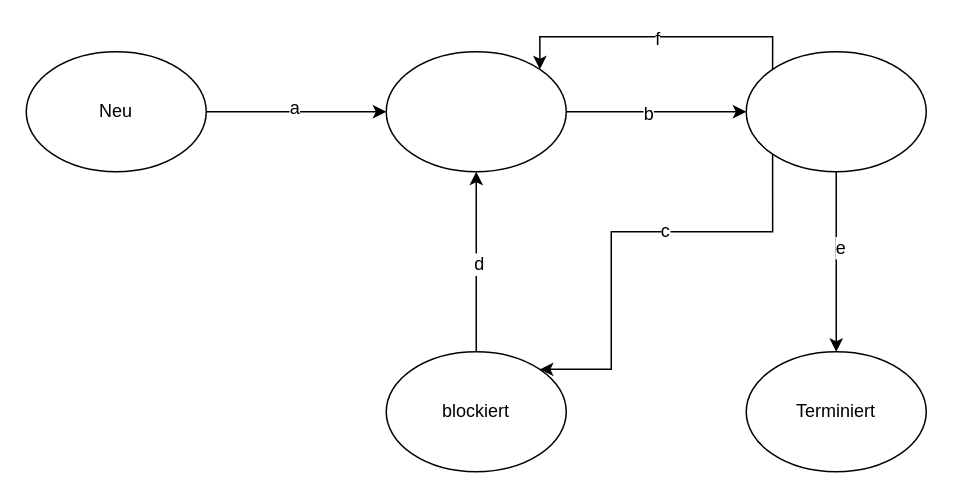
The diagram is 953 pixels wide and 498 high, and some of its shapes have lost their labels. Each missing label, with the centre of its shape:
"Rechenfähig" goes at [475,111].
"Rechnend" goes at [835,111].
